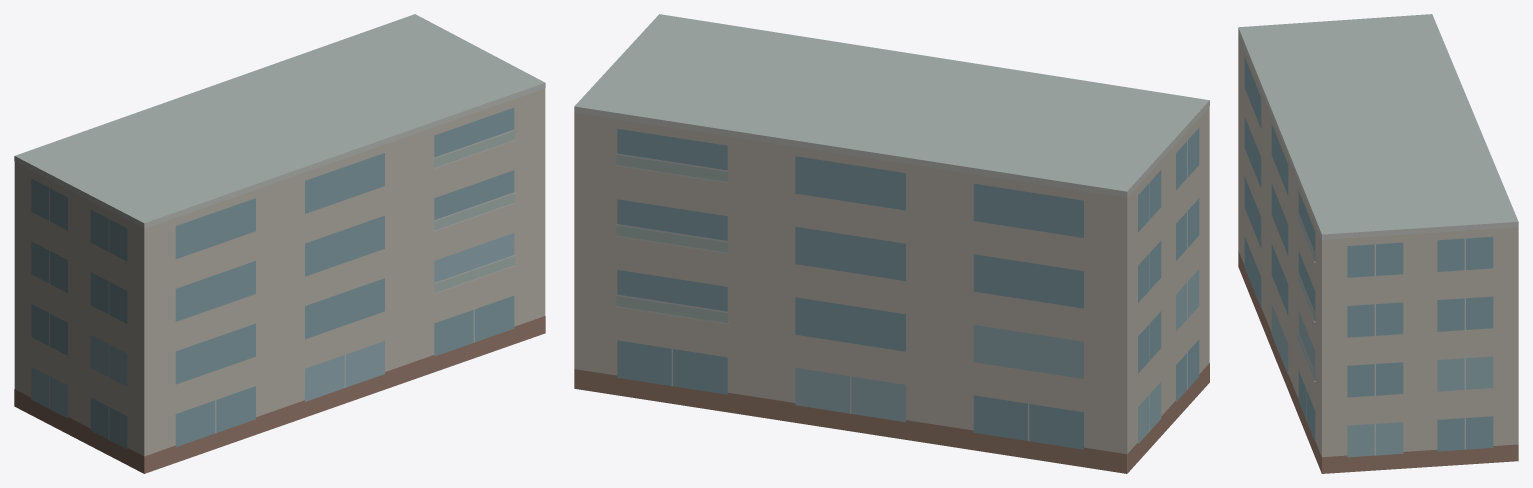
File: survey-upis-32533785.glb
3 renders of one model, left to right at view 1: azimuth 30°, elevation 25°; view 2: azimuth 150°, elevation 25°; view 3: azimuth 270°, elevation 25°, orthographic. The views are drawn at different scales.
Visible parts, largest first — view 1: survey-upis-32533785.tmp; view 2: survey-upis-32533785.tmp; view 3: survey-upis-32533785.tmp.
Boxes of the visible parts, left/top/right/bottom form: survey-upis-32533785.tmp: left=14, top=14, right=545, bottom=473; survey-upis-32533785.tmp: left=574, top=14, right=1209, bottom=473; survey-upis-32533785.tmp: left=1238, top=14, right=1518, bottom=473.
Bounding box in the file's own units: 21.94 × 11.1 × 11.79.
